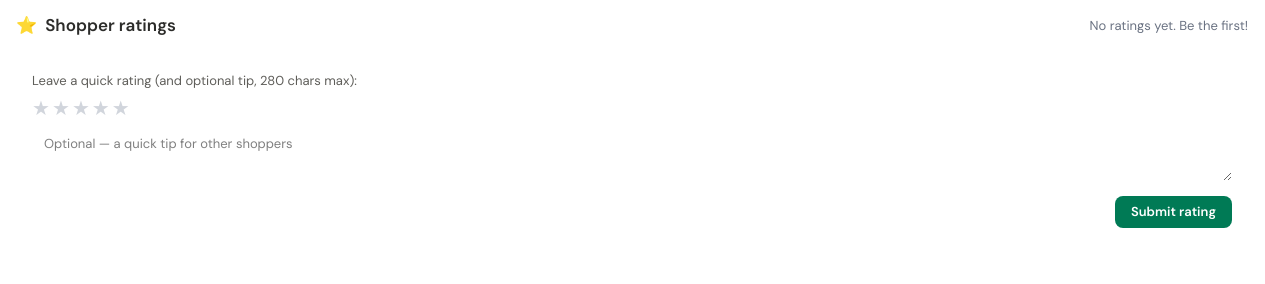
Scenario: StoreRatingsPanel — shopper submit flow › POSTs the selected score and renders 'Your rating' on success
The width and height of the screenshot is (1265, 284).
Click the button named "4 stars": (101, 108) x1=92 y1=98 x2=110 y2=118
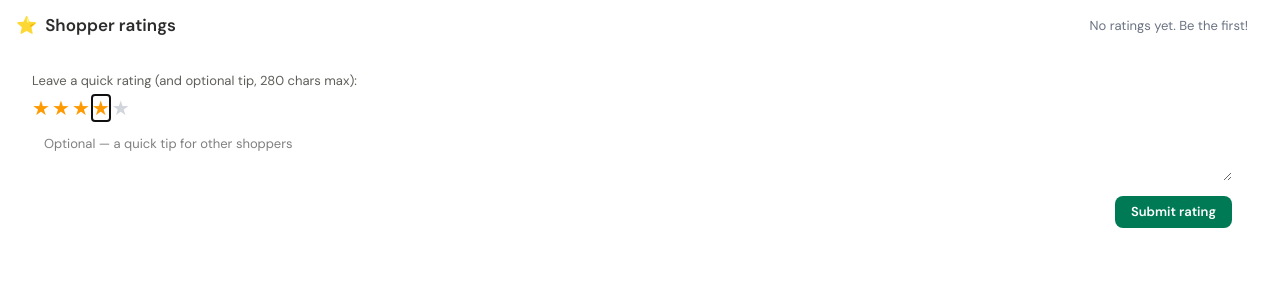
Click the button "Submit rating": (1174, 212) x1=1115 y1=196 x2=1232 y2=228
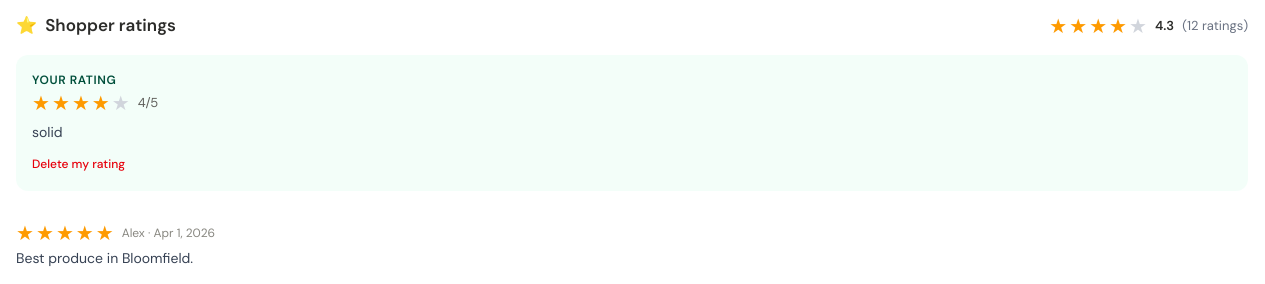
expect the text "Your rating" is shown: met, box x1=32 y1=72 x2=116 y2=88
expect the text "4/5" is shown: met, box x1=138 y1=93 x2=158 y2=112
